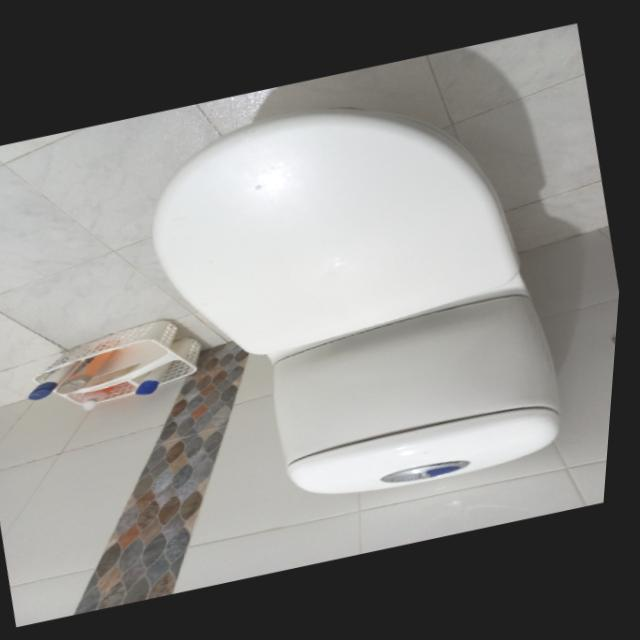toilet: (115, 59, 598, 535)
